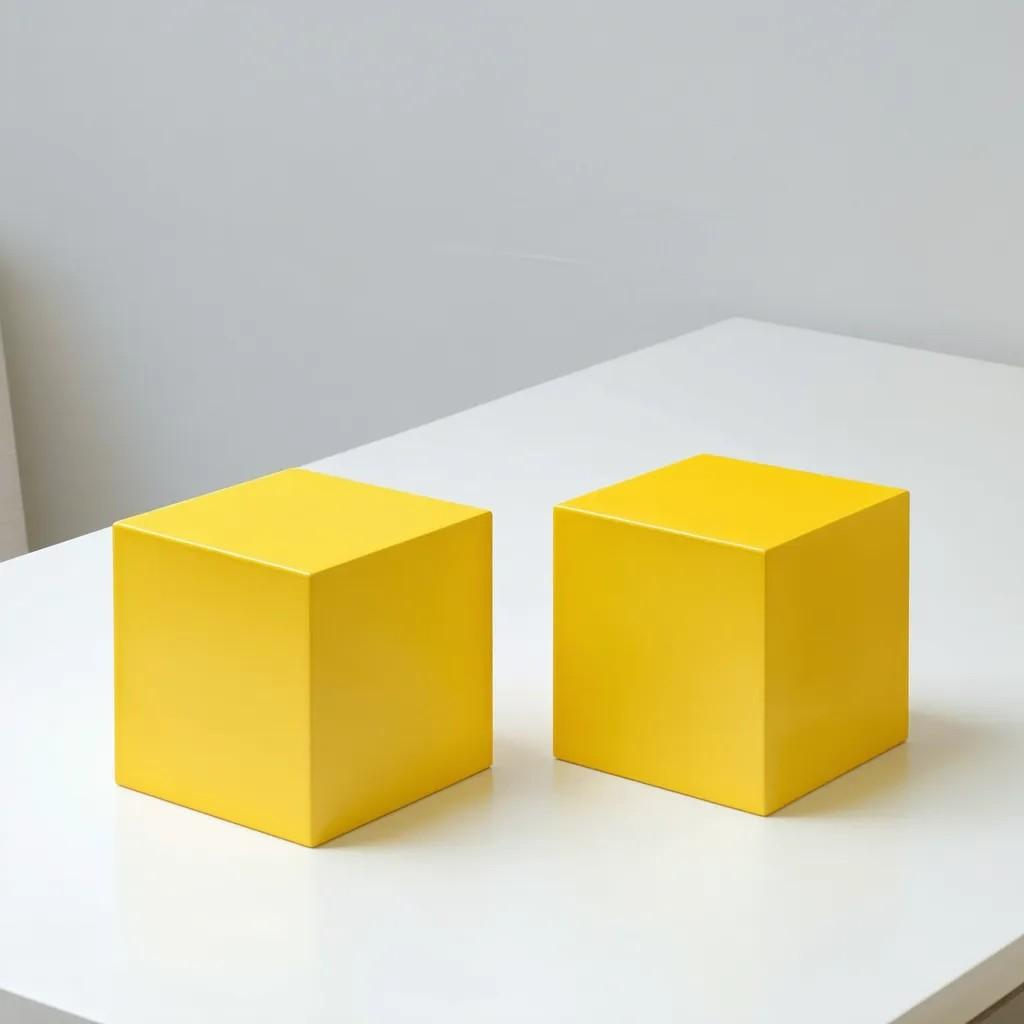cube: (110, 464, 494, 848), (551, 451, 910, 816)
